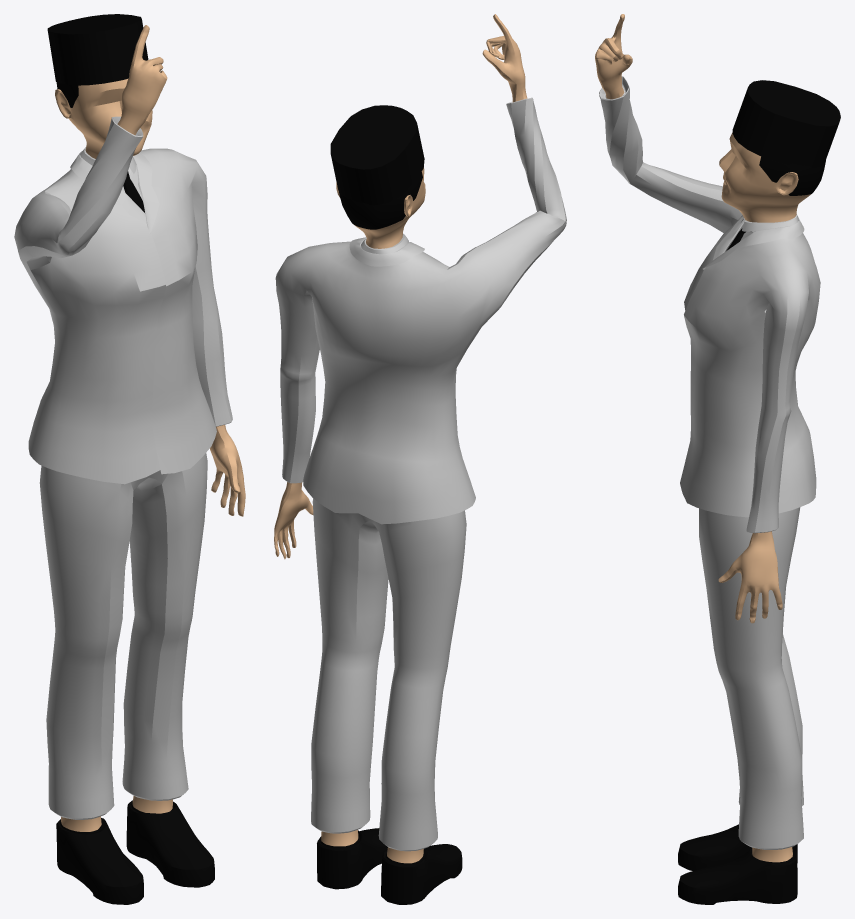
Rendered from Soekarno.fbx.
3 views of the same model, side by side, from view 1: azimuth 30°, elevation 25°; view 2: azimuth 150°, elevation 25°; view 3: azimuth 270°, elevation 25° (orthographic). The views are drawn at different scales.
Parts seen in each view (by area): view 1: Soekarno Pose 2, Peci Soekarno.001; view 2: Soekarno Pose 2, Peci Soekarno.001; view 3: Soekarno Pose 2, Peci Soekarno.001.
Part boxes in pixels (x1,y1,x2,y2): Soekarno Pose 2: (14,25,245,904); Peci Soekarno.001: (47,14,148,85); Soekarno Pose 2: (274,14,566,904); Peci Soekarno.001: (330,105,424,205); Soekarno Pose 2: (595,14,825,904); Peci Soekarno.001: (732,80,840,168).
Size of the model in its own units: 53.95 by 190 by 50.18.
